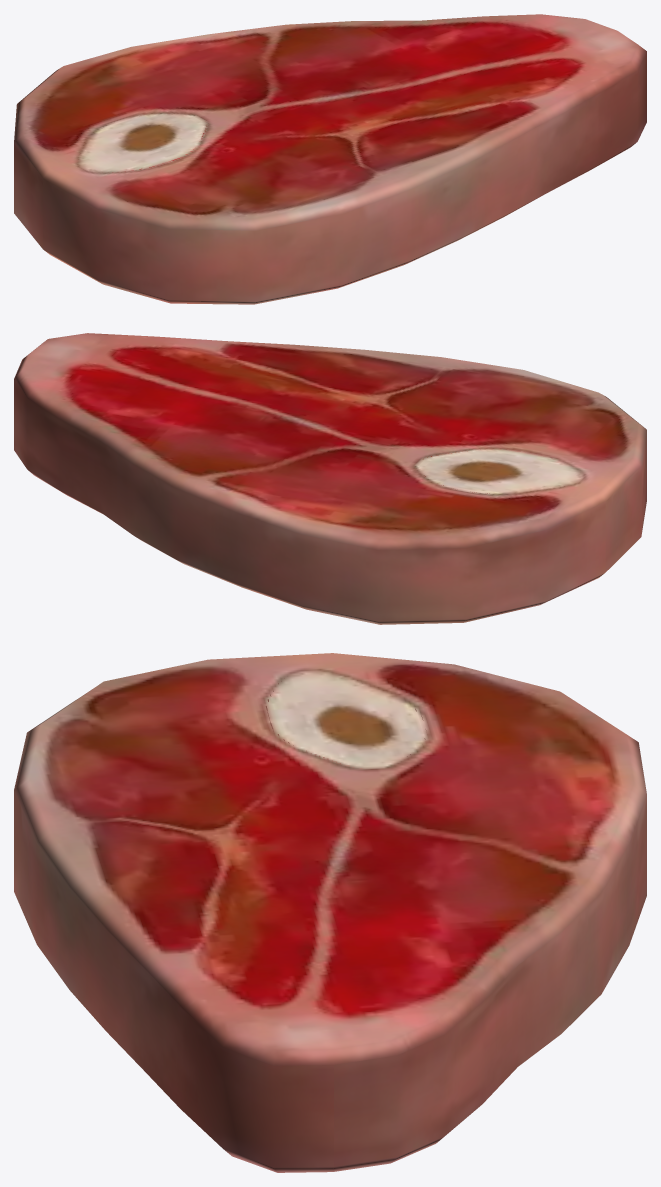
The picture shows the model from 3 angles, top to bottom: view 1: azimuth 30°, elevation 25°; view 2: azimuth 150°, elevation 25°; view 3: azimuth 270°, elevation 25°; orthographic projection. The views are drawn at different scales.
Visible parts, largest first — view 1: SM_Raw_Venison_01_LOD0; view 2: SM_Raw_Venison_01_LOD0; view 3: SM_Raw_Venison_01_LOD0.
Boxes of the visible parts, left/top/right/bottom form: SM_Raw_Venison_01_LOD0: left=14, top=14, right=646, bottom=304; SM_Raw_Venison_01_LOD0: left=14, top=333, right=646, bottom=624; SM_Raw_Venison_01_LOD0: left=14, top=653, right=646, bottom=1172.
Bounding box in the file's own units: 0.3101 × 0.0435 × 0.2036.
Materials: 1 (1 with a texture image).
